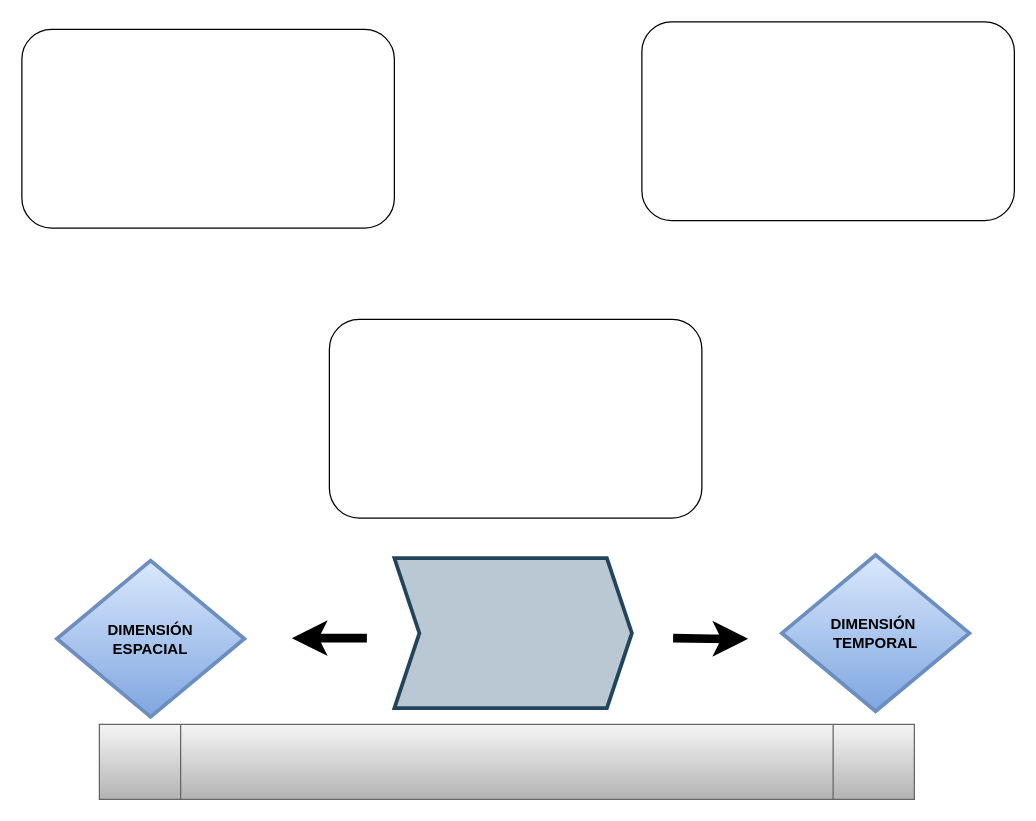
Some shapes in this 1036 by 821 pixel diagram are drawn without their labels. Here are the shapes that lost their labels. From the top down, the centre of each, then its label:
At (512,632): "DATOS".
At (506,761): "TEST DE MONTE CARLO".
